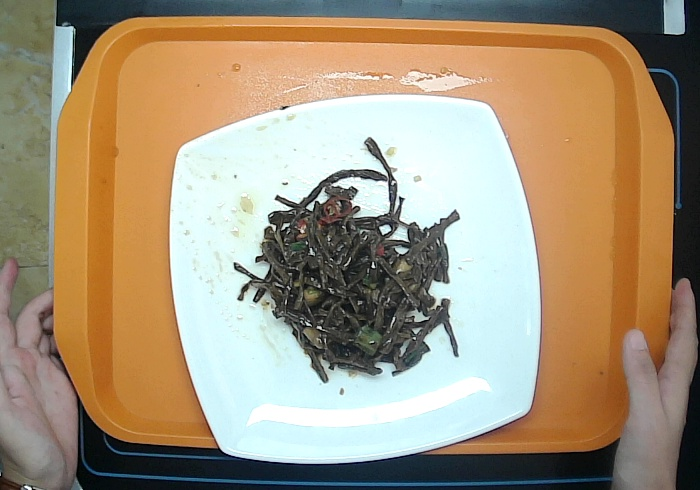ZNLD-Bai_Fang_Pan: (167, 89, 540, 467)
